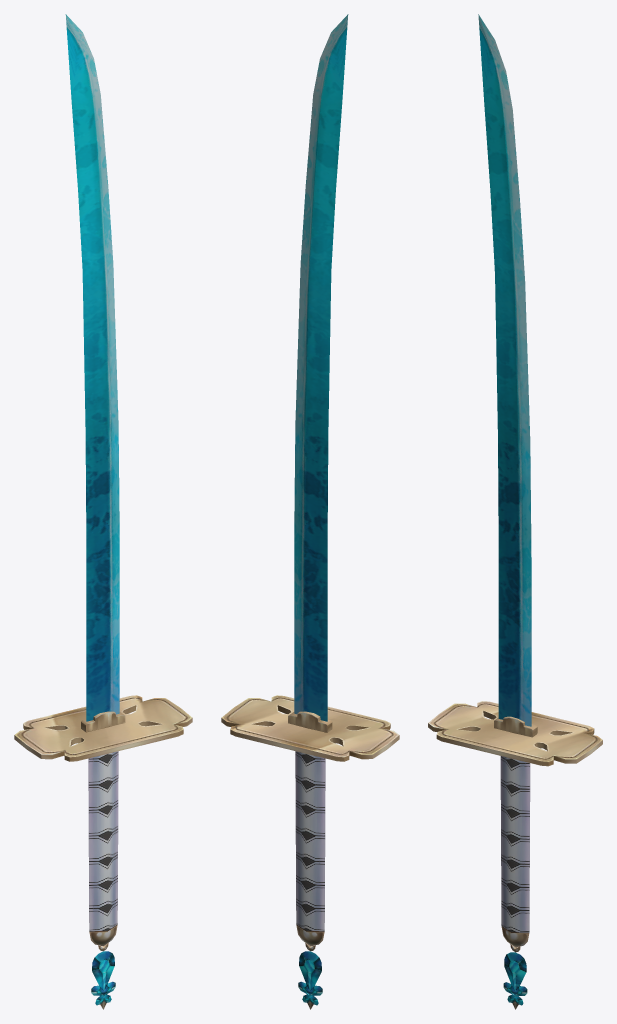
The model's file is Hero_Seria_Cos19Summer_Weapon_A.fbx.
The picture shows the model from 3 angles, left to right: view 1: azimuth 30°, elevation 25°; view 2: azimuth 150°, elevation 25°; view 3: azimuth 330°, elevation 25°; orthographic projection.
Visible parts, largest first — view 1: Hero_Seria_Cos19Summer_Weapon_A; view 2: Hero_Seria_Cos19Summer_Weapon_A; view 3: Hero_Seria_Cos19Summer_Weapon_A.
Boxes of the visible parts, x1,y1,x2,y2 form: Hero_Seria_Cos19Summer_Weapon_A: (14,14,192,1009); Hero_Seria_Cos19Summer_Weapon_A: (221,14,399,1009); Hero_Seria_Cos19Summer_Weapon_A: (428,14,602,1009).
Size of the model in its own units: 0.1779 by 1.11 by 0.0987.
